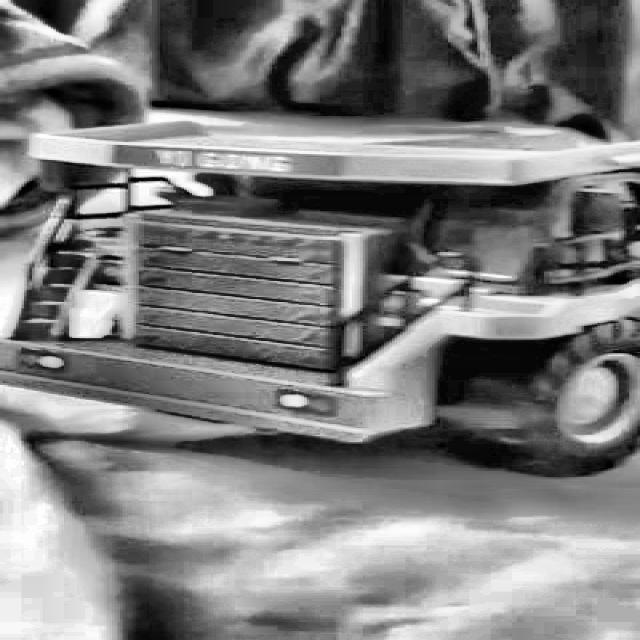dump_truck: (0, 112, 640, 459)
